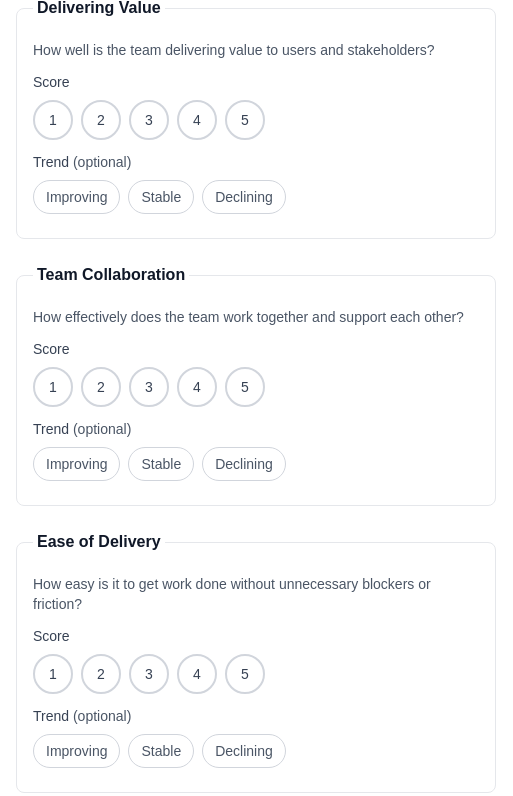
Test case: FeedbackForm › validation › shows validation error only for questions missing a score
// Fill in first question only
Click the 1st radio button labelled "3". click: (149, 120)
box: [129, 100, 169, 140]
(page scrolled)
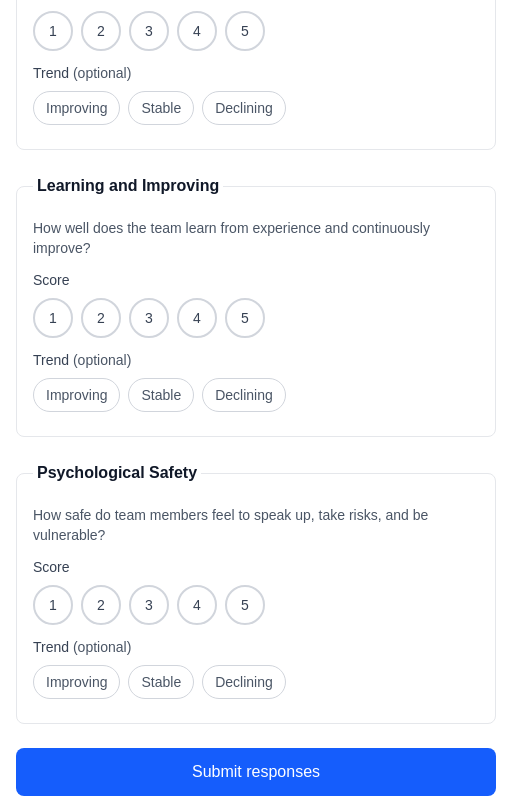
Click the button "Submit responses". click: (256, 772)
box: [16, 748, 496, 795]
(page scrolled)
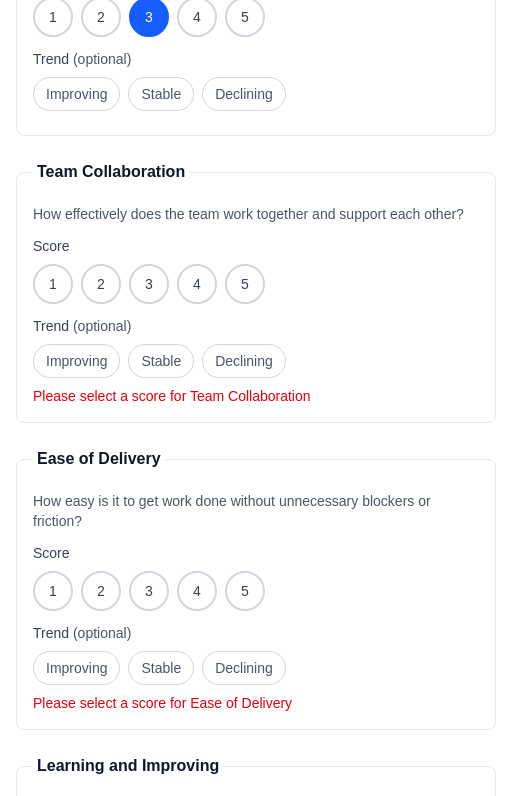
Now the text "Please select a score for Team Collaboration" is shown, box [33, 388, 311, 404]
